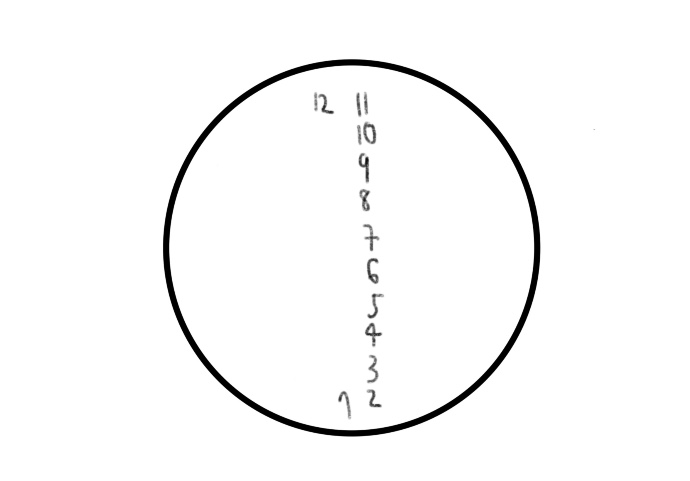eight: (357, 187, 373, 212)
eleven: (351, 91, 373, 117)
five: (366, 290, 386, 319)
four: (363, 319, 382, 349)
nine: (358, 152, 375, 181)
one: (334, 386, 356, 421)
seven: (362, 222, 381, 254)
six: (364, 254, 380, 283)
ten: (355, 121, 377, 148)
three: (364, 353, 380, 385)
twelve: (311, 91, 335, 119)
two: (363, 386, 384, 408)
